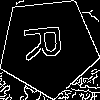R: (23, 21, 72, 62)
